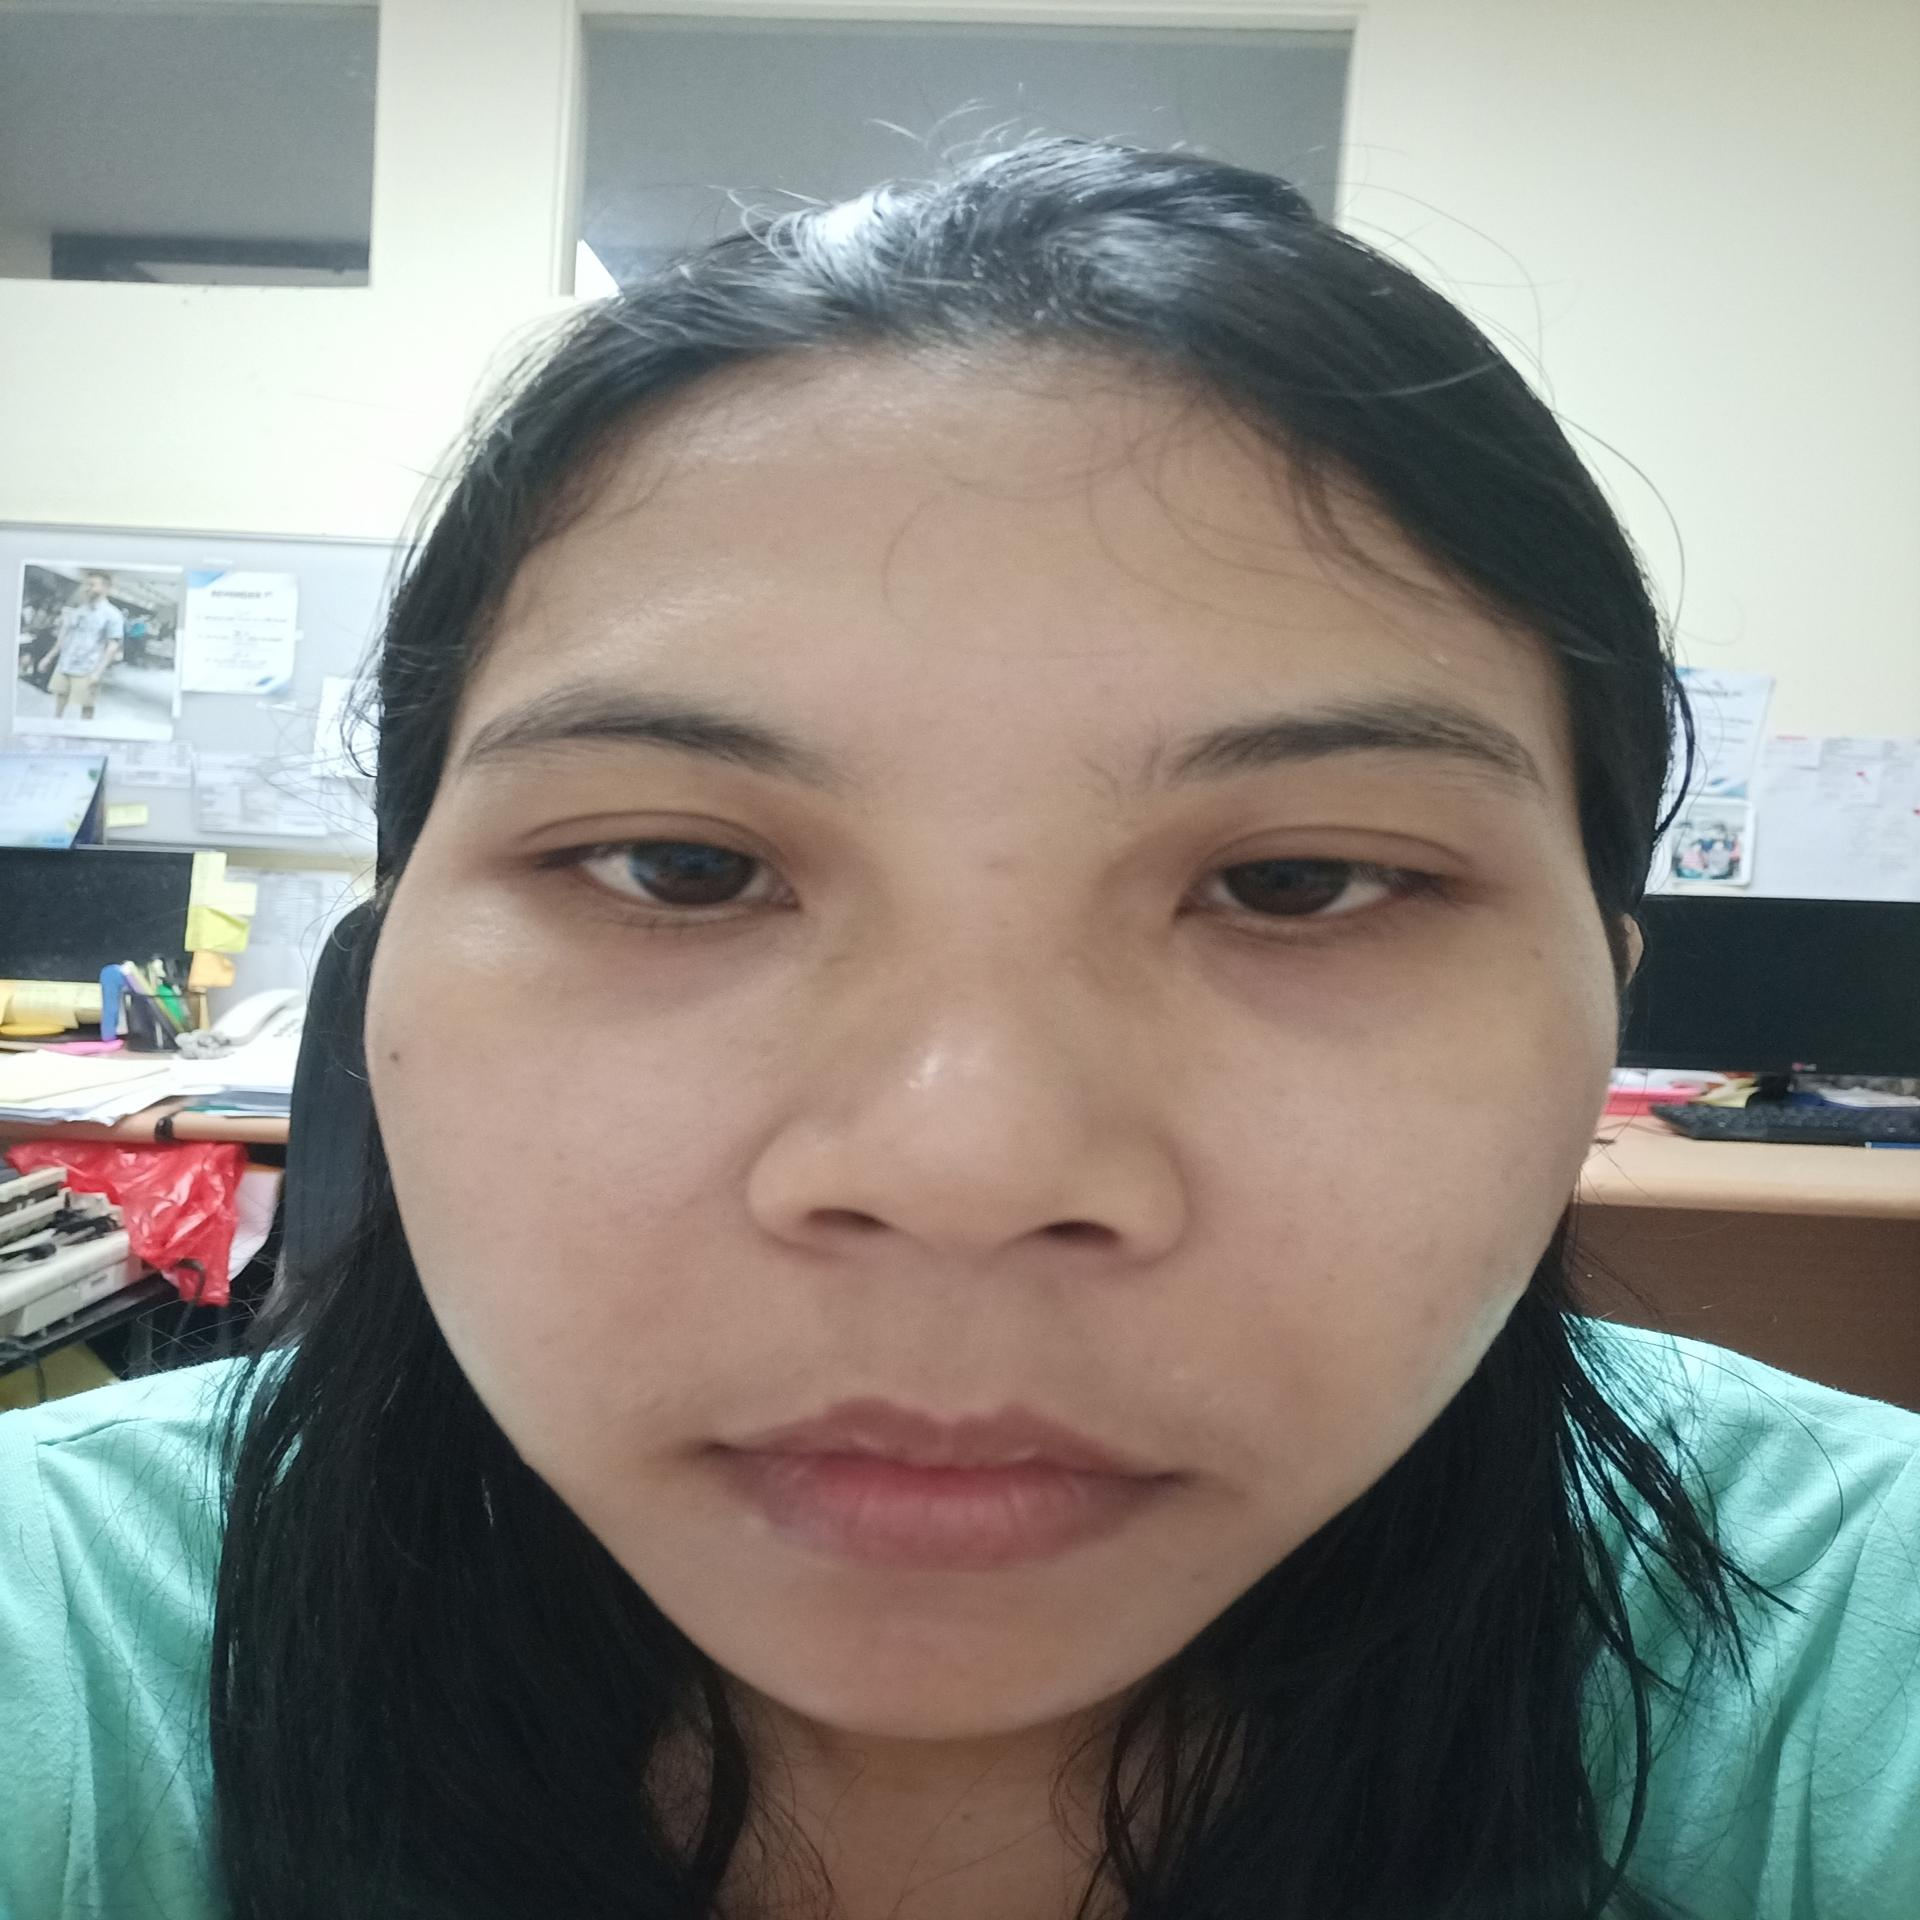Acne: (960, 842, 1022, 881), (517, 1326, 582, 1357), (1180, 1561, 1240, 1595), (1415, 1292, 1456, 1331), (1320, 1264, 1352, 1289)
Dark Circles: (1134, 920, 1519, 1050), (485, 902, 821, 1036)
